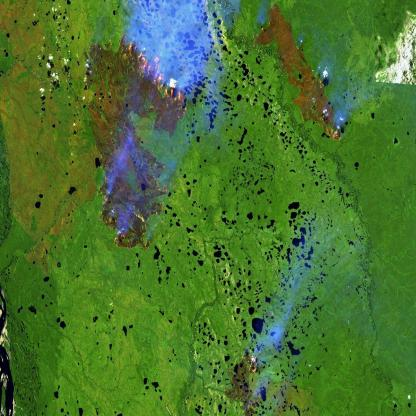fire: (109, 22, 198, 120), (95, 155, 173, 265), (303, 74, 356, 149), (232, 342, 274, 399)
